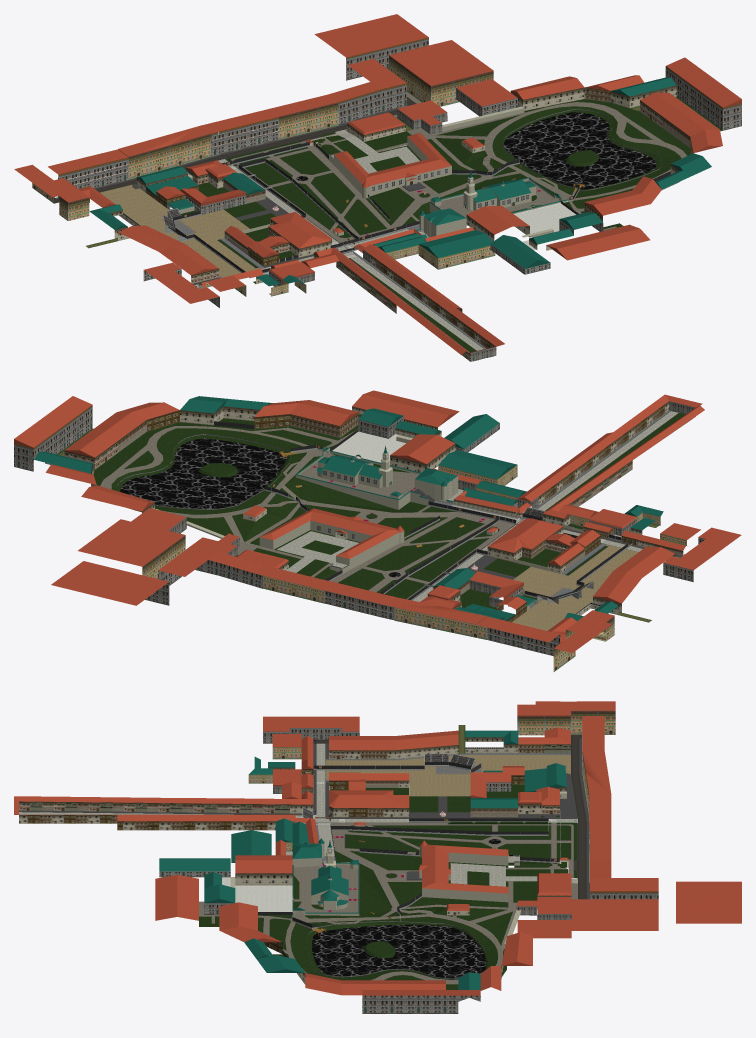
The picture shows the model from 3 angles, top to bottom: view 1: azimuth 30°, elevation 25°; view 2: azimuth 150°, elevation 25°; view 3: azimuth 270°, elevation 25°; orthographic projection. The views are drawn at different scales.
Parts seen in each view (by area): view 1: andrychowModel-SKP--dach1, andrychowModel-SKP--Grass, andrychowModel-SKP--Building4, andrychowModel-SKP--dach2, andrychowModel-SKP--Sidewalk2, andrychowModel-SKP--Building5, andrychowModel-SKP--Water, andrychowModel-SKP--bricks8, andrychowModel-SKP--Sidewalk1, andrychowModel-SKP--Building3, andrychowModel-SKP--Bricks, andrychowModel-SKP--Buildings1 (+9 smaller); view 2: andrychowModel-SKP--dach1, andrychowModel-SKP--Grass, andrychowModel-SKP--dach2, andrychowModel-SKP--Sidewalk2, andrychowModel-SKP--Building4, andrychowModel-SKP--Water, andrychowModel-SKP--bricks8, andrychowModel-SKP--Building5, andrychowModel-SKP--Buildings1, andrychowModel-SKP--Sidewalk1, andrychowModel-SKP--Building3, andrychowModel-SKP--Bricks (+7 smaller); view 3: andrychowModel-SKP--dach1, andrychowModel-SKP--Grass, andrychowModel-SKP--dach2, andrychowModel-SKP--Sidewalk2, andrychowModel-SKP--Water, andrychowModel-SKP--Building4, andrychowModel-SKP--Buildings1, andrychowModel-SKP--Buildings2, andrychowModel-SKP--Sidewalk1, andrychowModel-SKP--Brick3, andrychowModel-SKP--Bricks, andrychowModel-SKP--Building3 (+10 smaller).
Part boxes in pixels (x1,y1,x2,y2): andrychowModel-SKP--dach1: [14, 14, 741, 354]; andrychowModel-SKP--Grass: [181, 99, 691, 352]; andrychowModel-SKP--Building4: [58, 37, 741, 361]; andrychowModel-SKP--dach2: [89, 77, 711, 286]; andrychowModel-SKP--Sidewalk2: [175, 92, 686, 242]; andrychowModel-SKP--Building5: [32, 55, 495, 296]; andrychowModel-SKP--Water: [297, 112, 656, 189]; andrychowModel-SKP--bricks8: [167, 106, 568, 262]; andrychowModel-SKP--Sidewalk1: [100, 184, 259, 277]; andrychowModel-SKP--Building3: [110, 85, 679, 286]; andrychowModel-SKP--Bricks: [194, 129, 483, 351]; andrychowModel-SKP--Buildings1: [137, 87, 693, 348]; andrychowModel-SKP--dach1: [14, 390, 741, 652]; andrychowModel-SKP--Grass: [93, 413, 685, 609]; andrychowModel-SKP--dach2: [34, 396, 663, 621]; andrychowModel-SKP--Sidewalk2: [100, 426, 565, 599]; andrychowModel-SKP--Building4: [14, 401, 705, 655]; andrychowModel-SKP--Water: [120, 438, 400, 577]; andrychowModel-SKP--bricks8: [155, 435, 583, 610]; andrychowModel-SKP--Building5: [142, 465, 686, 671]; andrychowModel-SKP--Buildings1: [91, 401, 669, 622]; andrychowModel-SKP--Sidewalk1: [512, 544, 637, 630]; andrychowModel-SKP--Building3: [45, 406, 654, 620]; andrychowModel-SKP--Bricks: [277, 411, 679, 601]; andrychowModel-SKP--dach1: [14, 701, 741, 995]; andrychowModel-SKP--Grass: [199, 769, 577, 989]; andrychowModel-SKP--dach2: [159, 730, 566, 989]; andrychowModel-SKP--Sidewalk2: [199, 766, 577, 984]; andrychowModel-SKP--Water: [312, 839, 500, 978]; andrychowModel-SKP--Building4: [159, 726, 658, 1013]; andrychowModel-SKP--Buildings1: [19, 744, 544, 953]; andrychowModel-SKP--Buildings2: [19, 744, 570, 817]; andrychowModel-SKP--Sidewalk1: [325, 755, 570, 796]; andrychowModel-SKP--Brick3: [19, 738, 589, 899]; andrychowModel-SKP--Bricks: [19, 743, 577, 886]; andrychowModel-SKP--Building3: [235, 737, 571, 984].
Size of the model in its own units: 164420 by 11813 by 164803.
37 materials, 37 textured.
